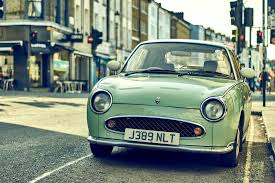number_plate: (121, 126, 186, 149)
